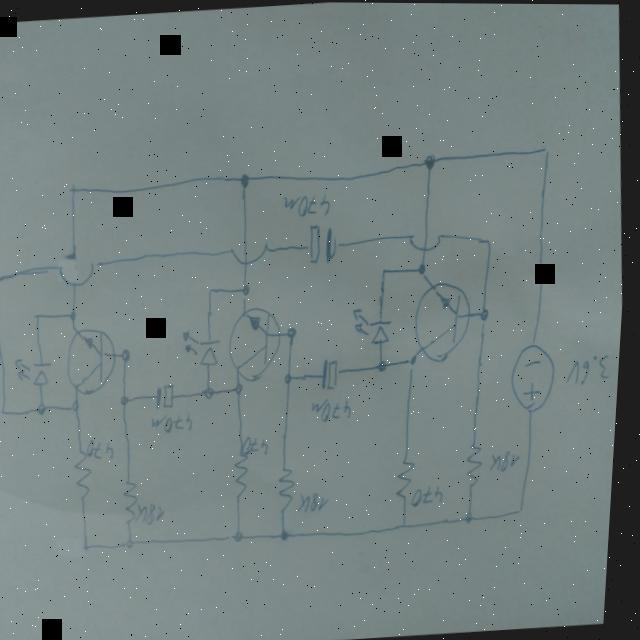capacitor: (309, 221, 338, 266), (323, 356, 344, 389), (158, 382, 180, 409)
crossover: (58, 257, 102, 289), (229, 238, 273, 267), (408, 228, 445, 253)
diode: (353, 303, 398, 346), (182, 326, 226, 367), (15, 353, 58, 388)
junction: (205, 383, 219, 400), (424, 152, 438, 169), (540, 140, 554, 157), (123, 345, 136, 362), (239, 171, 252, 188), (235, 379, 249, 394), (288, 322, 301, 338), (73, 397, 86, 412), (69, 306, 81, 322), (481, 304, 492, 321), (418, 260, 430, 275), (411, 350, 422, 366), (284, 527, 297, 540), (379, 358, 392, 371), (40, 401, 51, 416), (68, 182, 79, 197), (243, 281, 253, 297), (238, 528, 250, 541), (85, 539, 97, 552), (122, 392, 134, 405), (286, 371, 297, 384), (206, 283, 217, 296), (130, 535, 141, 548), (469, 508, 479, 522), (382, 263, 392, 277), (485, 235, 495, 248), (2, 403, 12, 416), (35, 307, 45, 320), (521, 503, 531, 514), (405, 518, 415, 529), (0, 270, 3, 285)
resistor: (75, 444, 100, 501), (280, 462, 303, 513), (397, 454, 422, 500), (468, 440, 491, 487), (236, 449, 256, 499), (125, 477, 145, 524)
source: (509, 338, 564, 414)
text: (567, 351, 617, 386), (283, 190, 334, 219), (314, 395, 357, 423), (153, 409, 198, 434), (138, 499, 172, 525), (89, 435, 121, 462), (492, 447, 526, 472), (415, 483, 449, 506), (302, 490, 337, 512), (244, 433, 274, 456)
transistor: (411, 276, 478, 365), (226, 303, 289, 383), (66, 323, 124, 397)
